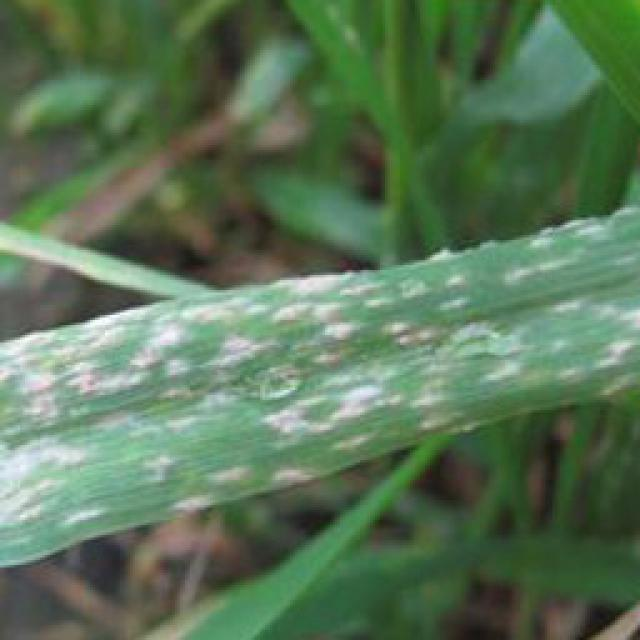wheat-powdery-mildew: (0, 206, 640, 571)
